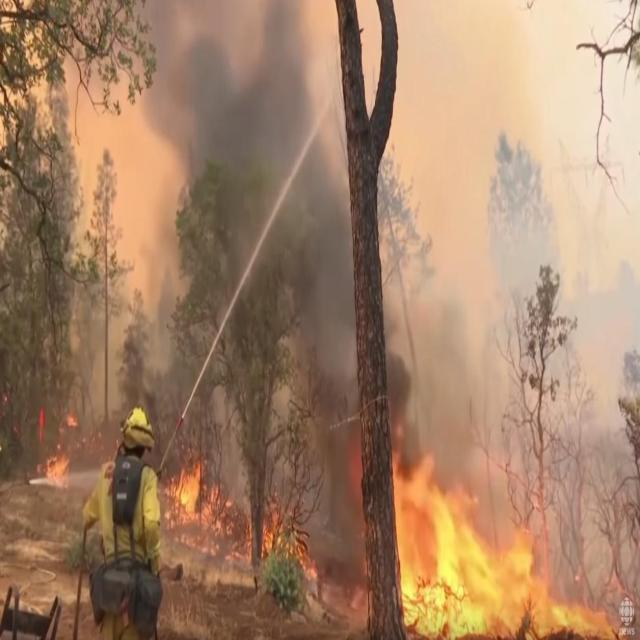Fire: (394, 445, 614, 640), (163, 468, 296, 588), (36, 448, 74, 499), (64, 408, 78, 429)
Smoke: (160, 21, 336, 174), (254, 188, 367, 334)
